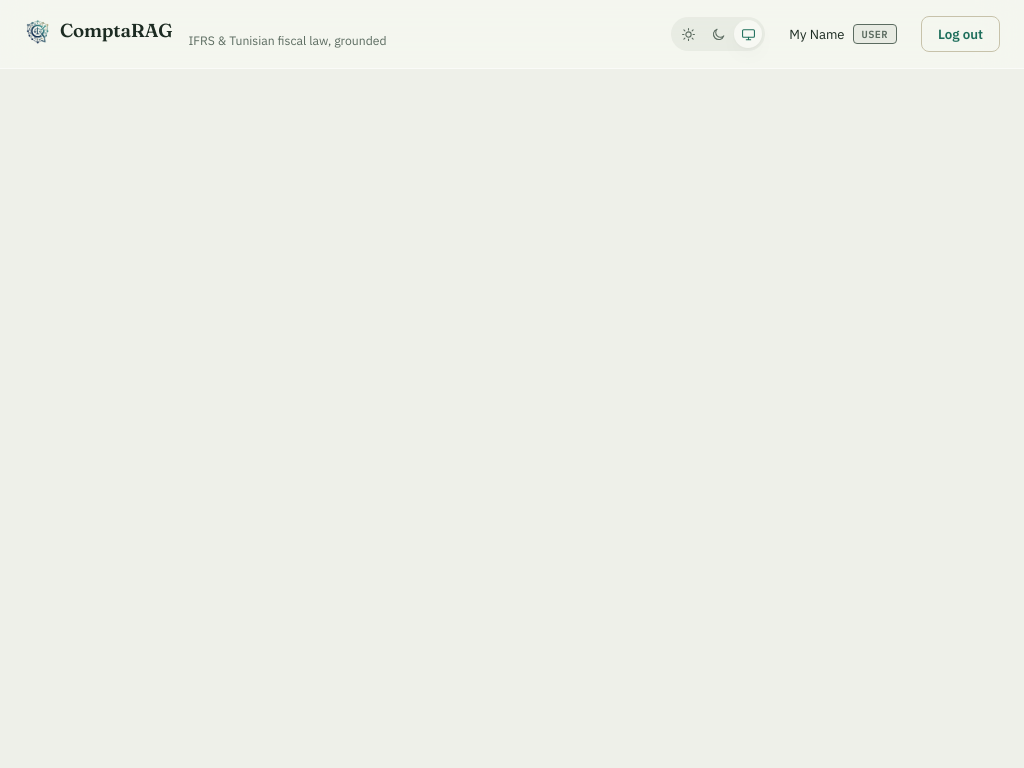
it: HeaderComponent › opens the profile modal when the user name is clicked
The width and height of the screenshot is (1024, 768).
Check: the heading "Your profile" is not shown
What coordinates should you click on to do the following:
click the text "My Name"
I would click on:
 (817, 34)
Its box is [789,26,845,42].
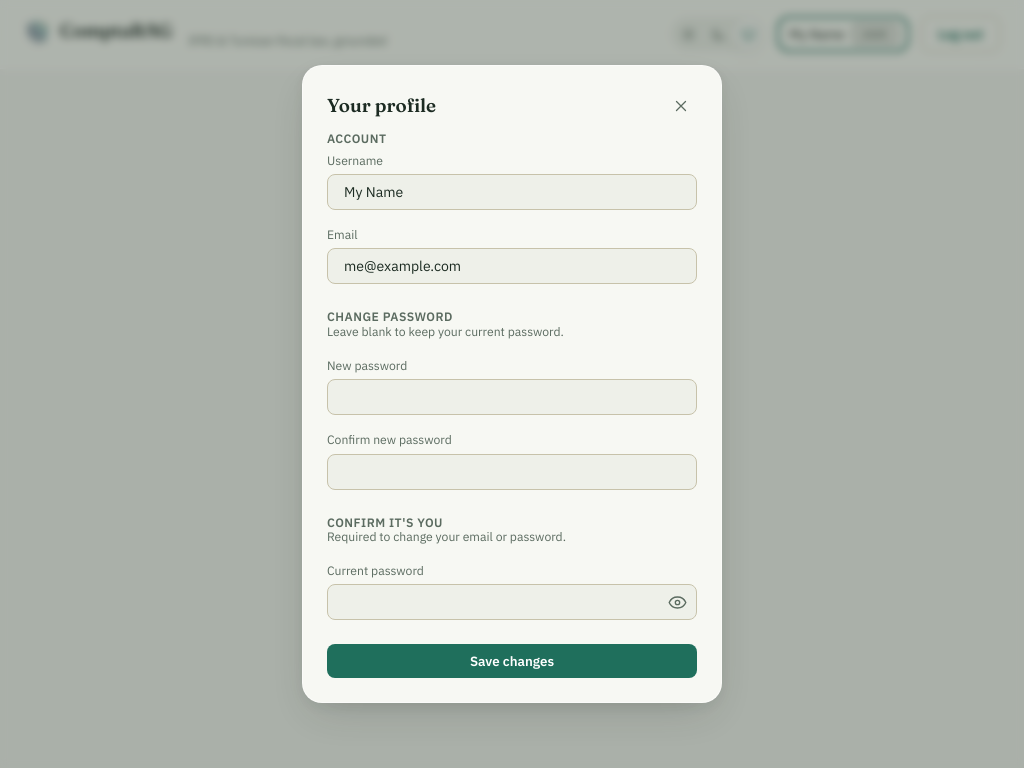
Check: the heading "Your profile" is shown, box [327,92,436,120]
